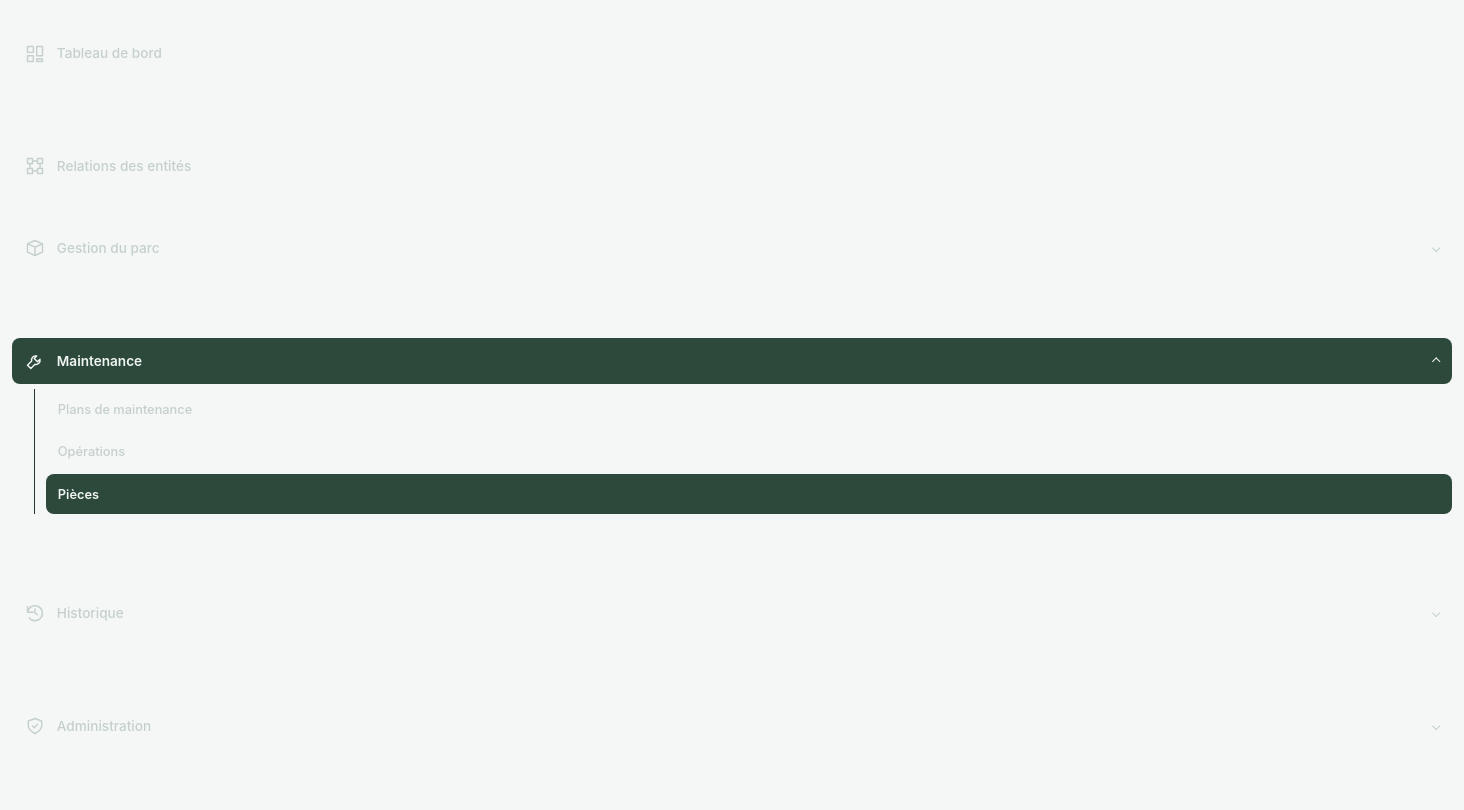
SidebarNavigation › opens the active group and keeps only one dropdown open
What coordinates should you click on to do the following:
click the button "Gestion du parc"
I would click on:
 (108, 248)
Its box is [12,225,1452,271].
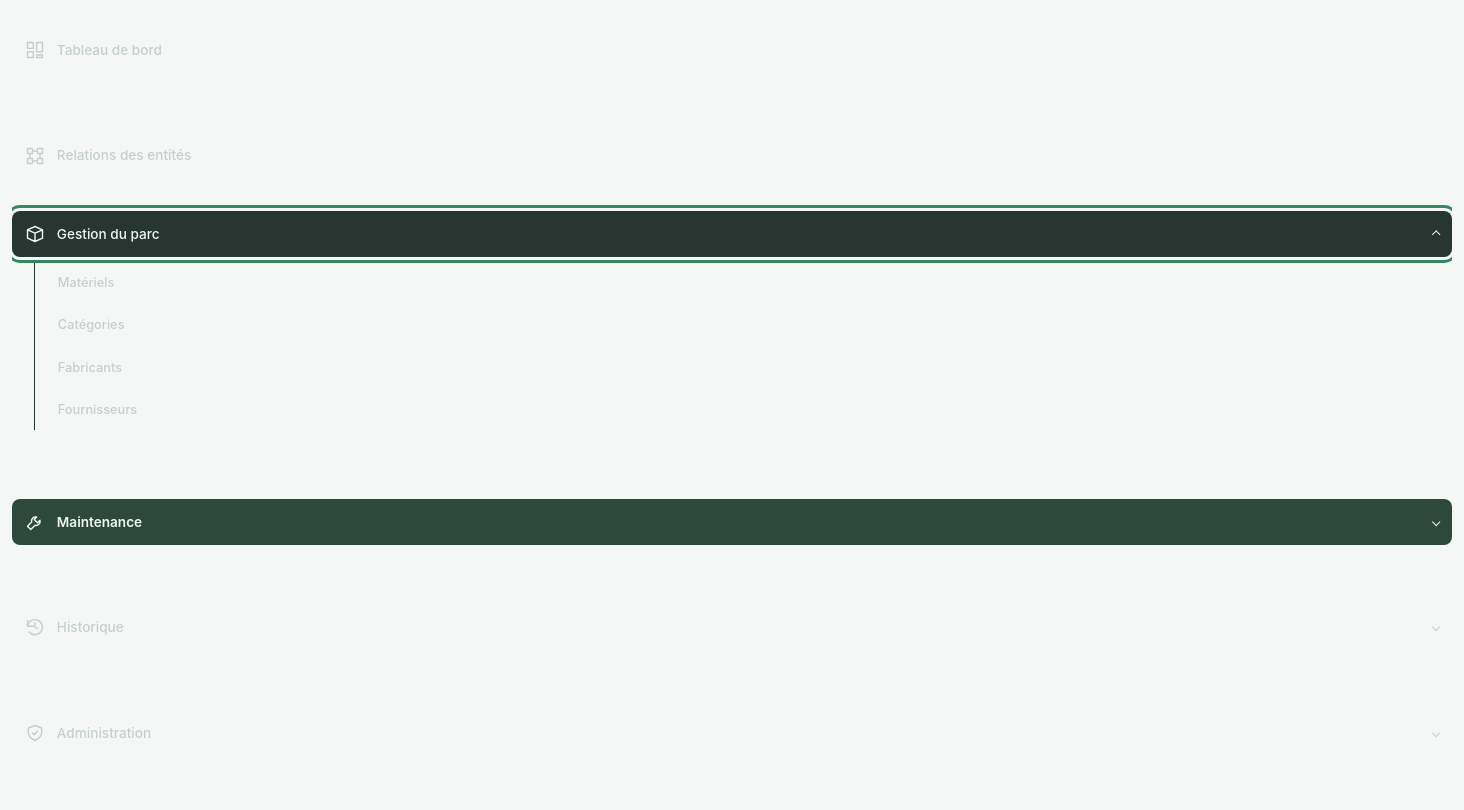
Check: the button "Gestion du parc" is expanded, box [12,211,1452,257]
Check: the button "Maintenance" is collapsed, box [12,499,1452,545]
